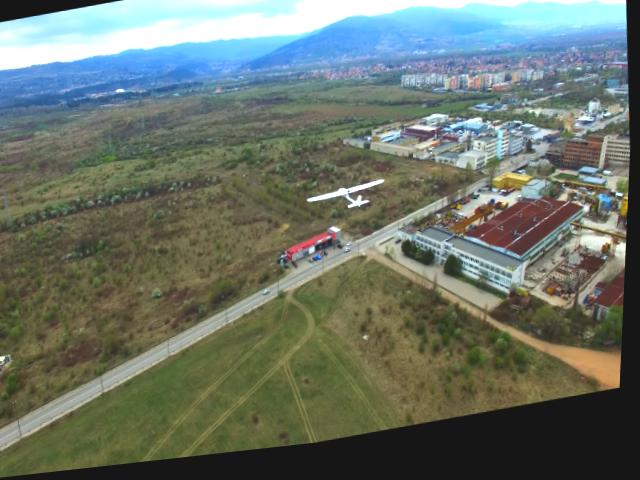plane: (307, 186, 387, 221)
